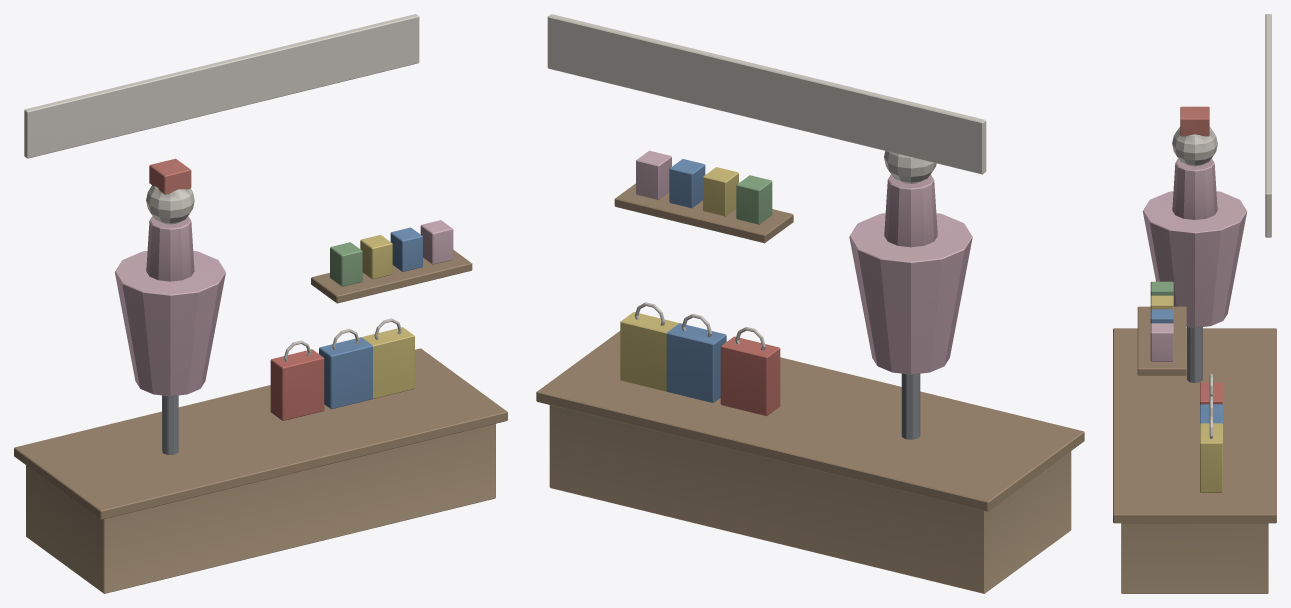
File: store_window.glb
3 renders of one model, left to right at view 1: azimuth 30°, elevation 25°; view 2: azimuth 150°, elevation 25°; view 3: azimuth 270°, elevation 25°, orthographic. The views are drawn at different scales.
Bounding box in the file's own units: 2.7 × 2.7 × 1.
